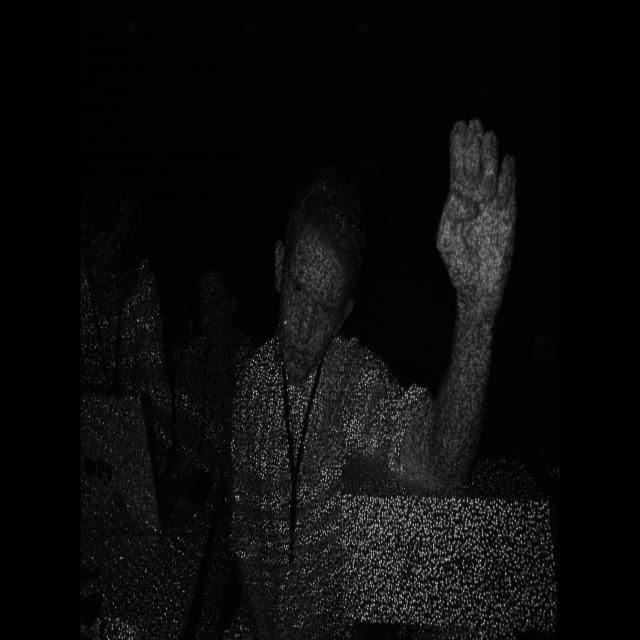E: (432, 86, 525, 344)
